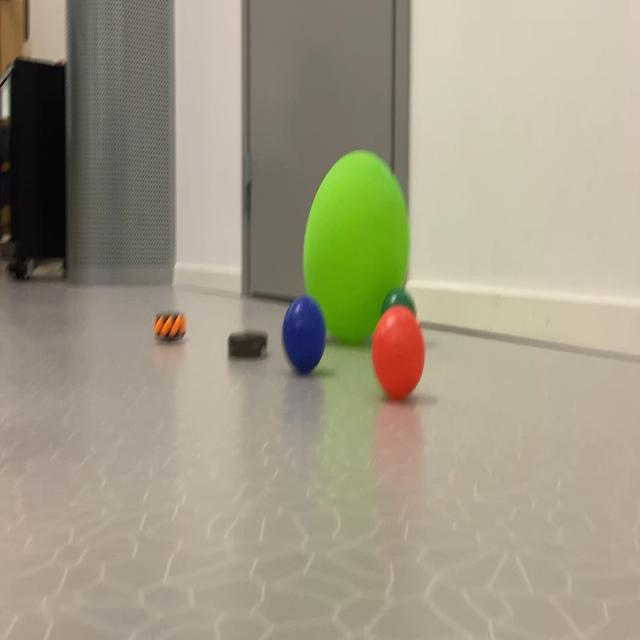7: (365, 308, 430, 445)
green ball: (268, 276, 333, 408)
red ball: (367, 267, 421, 327)
